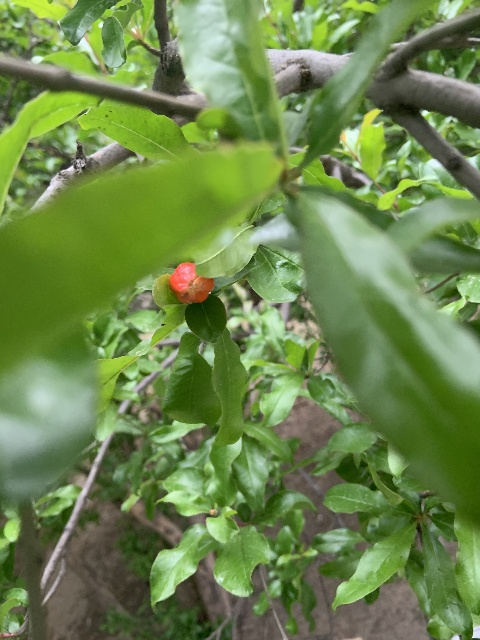bud: (168, 262, 214, 304)
